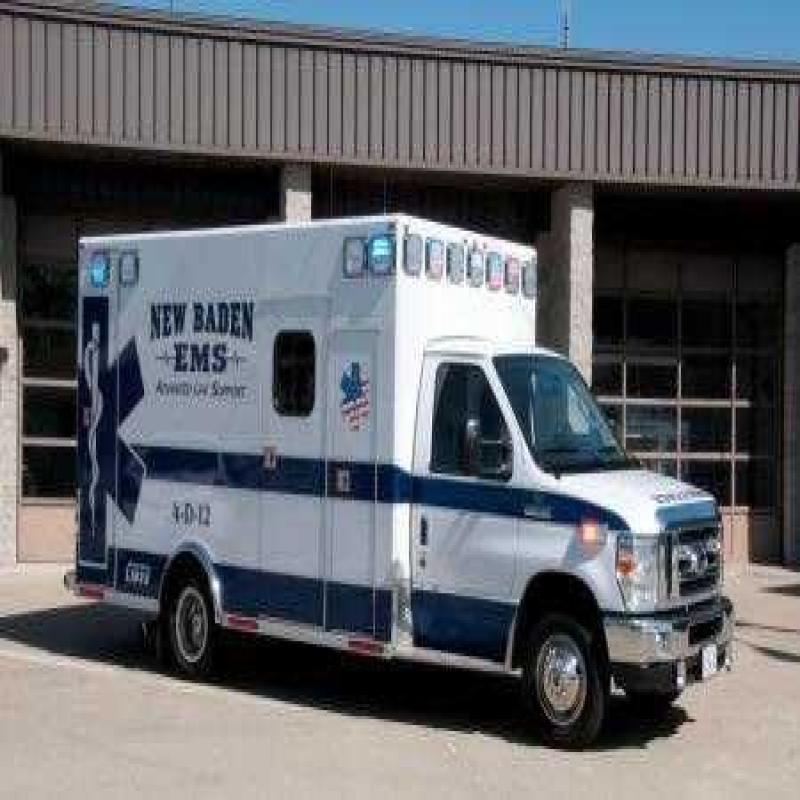AmbulanceSiren: (399, 207, 543, 334)
